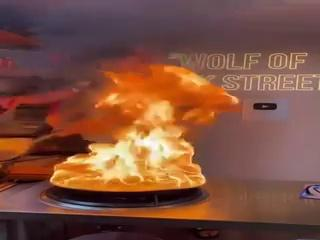Fire: (33, 64, 212, 194)
